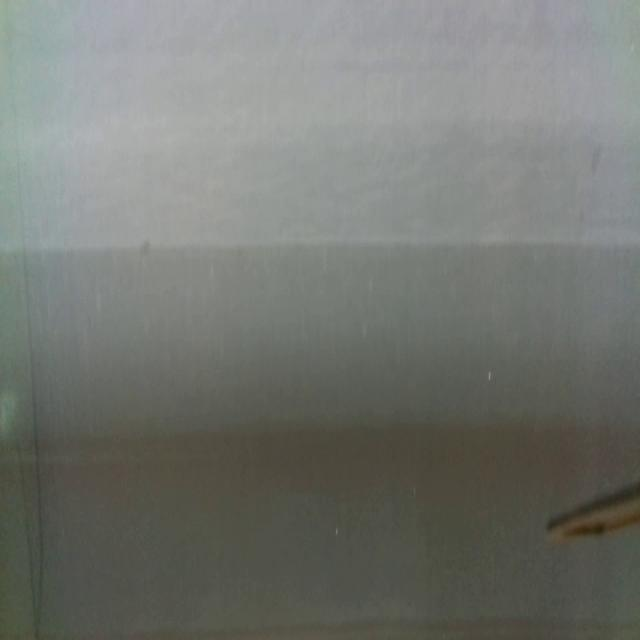color bleeding: (0, 235, 640, 482)
crease: (14, 115, 45, 636)
hole: (487, 370, 493, 383), (336, 528, 340, 538)
